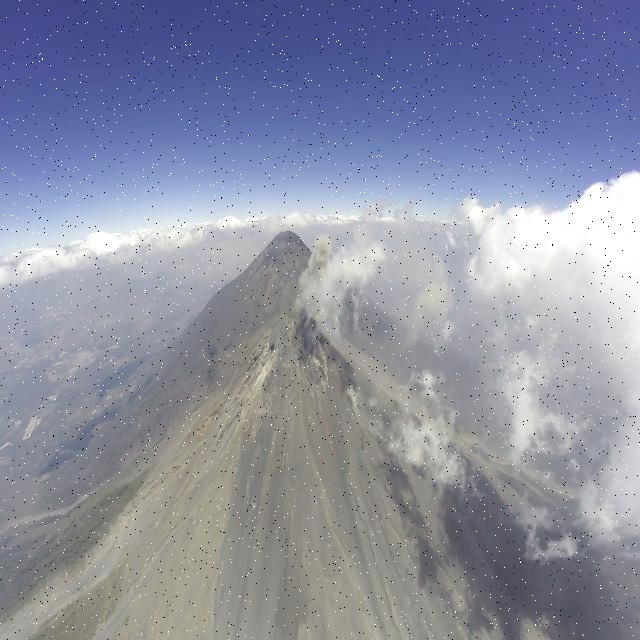Plume: (302, 230, 334, 296)
Summit: (223, 306, 335, 412)
